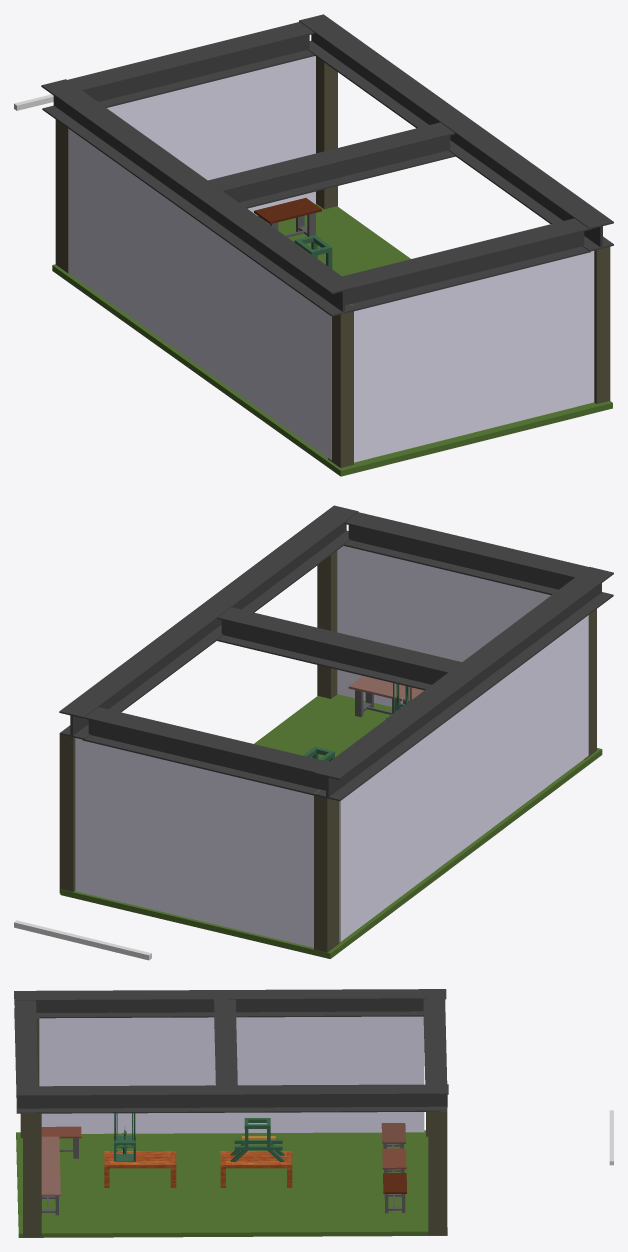
The model's file is pruebamovimiento.gltf.
3 renders of one model, top to bottom at view 1: azimuth 30°, elevation 25°; view 2: azimuth 150°, elevation 25°; view 3: azimuth 270°, elevation 25°, orthographic. The views are drawn at different scales.
Parts seen in each view (by area): view 1: Vigas_Amarre, Cubo, Cubo.003, Cubo.002, Cubo.001, Cubo.006, Cubo.007, Cubo.004, Cubo.005, Mesa.Lab3; view 2: Vigas_Amarre, Cubo.002, Cubo, Cubo.003, Cubo.001, Cubo.005, Cubo.004, Cubo.007, mesa5, Cubo.006, Cubo.027; view 3: Cubo.001, Cubo, Vigas_Amarre, Cubo.004, Cubo.007, Box001, Box001.001, Mesa.Lab3, main, mesa2, mesa5, Mesa.Lab2 (+3 smaller).
Boxes of the visible parts, left/top/right/bottom form: Vigas_Amarre: left=41, top=14, right=613, bottom=316; Cubo: left=68, top=129, right=331, bottom=460; Cubo.003: left=354, top=251, right=594, bottom=462; Cubo.002: left=107, top=56, right=315, bottom=215; Cubo.001: left=52, top=204, right=612, bottom=476; Cubo.006: left=328, top=304, right=353, bottom=467; Cubo.007: left=594, top=247, right=610, bottom=403; Cubo.004: left=316, top=57, right=337, bottom=209; Cubo.005: left=55, top=119, right=68, bottom=273; Mesa.Lab3: left=254, top=198, right=321, bottom=237; Vigas_Amarre: left=59, top=505, right=613, bottom=801; Cubo.002: left=75, top=738, right=313, bottom=947; Cubo: left=339, top=615, right=588, bottom=941; Cubo.003: left=337, top=546, right=550, bottom=706; Cubo.001: left=60, top=694, right=602, bottom=958; Cubo.005: left=314, top=789, right=339, bottom=952; Cubo.004: left=59, top=733, right=75, bottom=892; Cubo.007: left=317, top=551, right=337, bottom=698; mesa5: left=348, top=676, right=413, bottom=717; Cubo.006: left=584, top=609, right=596, bottom=759; Cubo.027: left=14, top=920, right=151, bottom=960; Cubo.001: left=16, top=1130, right=447, bottom=1237; Cubo: left=39, top=1016, right=424, bottom=1133; Vigas_Amarre: left=14, top=989, right=448, bottom=1113; Cubo.004: left=428, top=1111, right=447, bottom=1235; Cubo.007: left=23, top=1113, right=41, bottom=1236; Box001: left=104, top=1151, right=176, bottom=1187; Box001.001: left=220, top=1151, right=292, bottom=1187; Mesa.Lab3: left=383, top=1173, right=406, bottom=1213; main: left=114, top=1113, right=135, bottom=1161; mesa2: left=41, top=1126, right=81, bottom=1158; mesa5: left=41, top=1175, right=60, bottom=1215; Mesa.Lab2: left=382, top=1148, right=406, bottom=1173.
Bounding box in the file's own units: 10.57 × 6.55 × 25.04.
Materials: 31 (2 with a texture image).
